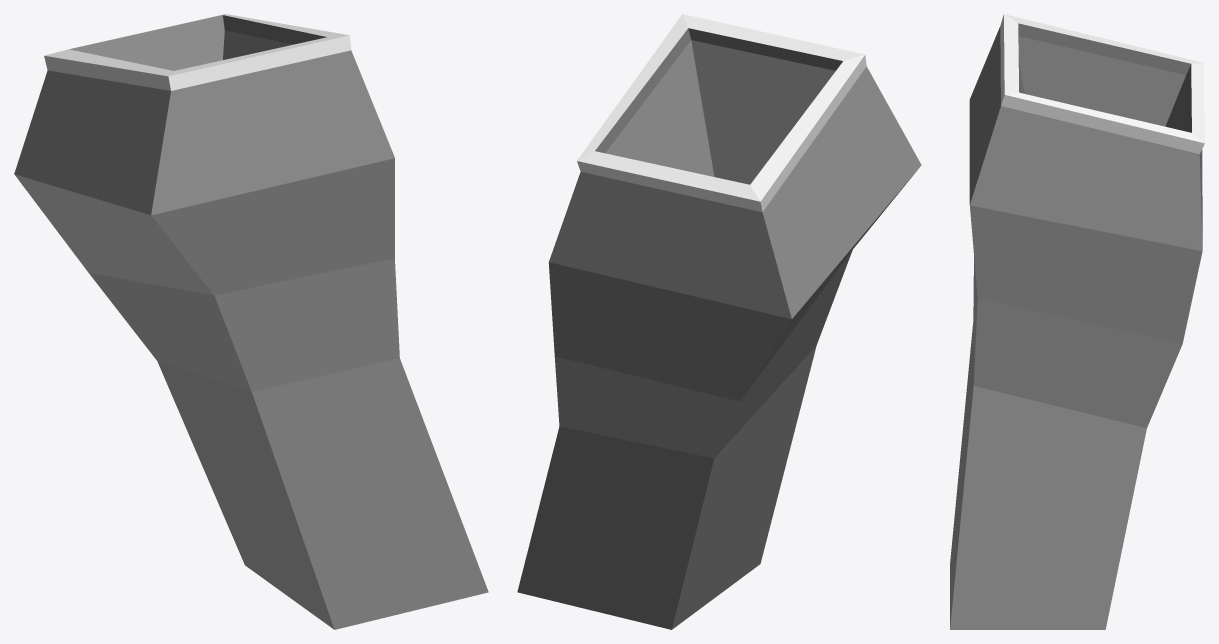
The model's file is Chimney.fbx.
3 renders of one model, left to right at view 1: azimuth 30°, elevation 25°; view 2: azimuth 150°, elevation 25°; view 3: azimuth 270°, elevation 25°, orthographic. The views are drawn at different scales.
Visible parts, largest first — view 1: Chimney; view 2: Chimney; view 3: Chimney.
Part boxes in pixels (left/top/right/bottom): Chimney: left=14, top=14, right=488, bottom=629; Chimney: left=517, top=14, right=921, bottom=629; Chimney: left=950, top=14, right=1204, bottom=629.
Size of the model in its own units: 234 by 383 by 179.
1 material, 1 textured.
